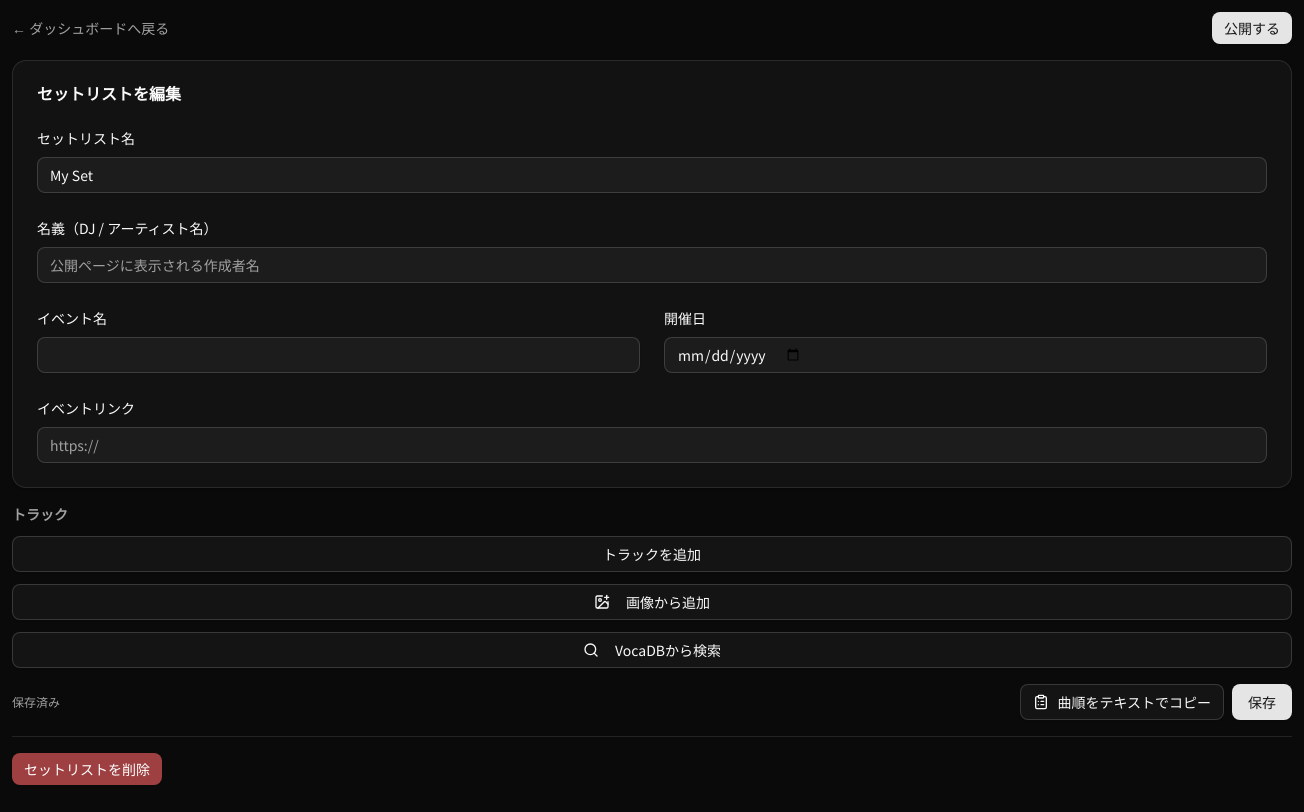
Test: SetlistEditor › disables the save button when the name is empty
expect the button "保存" is enabled: met, box [1232,684,1292,720]
Clear the field labelled "セットリスト名" at (652, 175), box [37,157,1267,193]
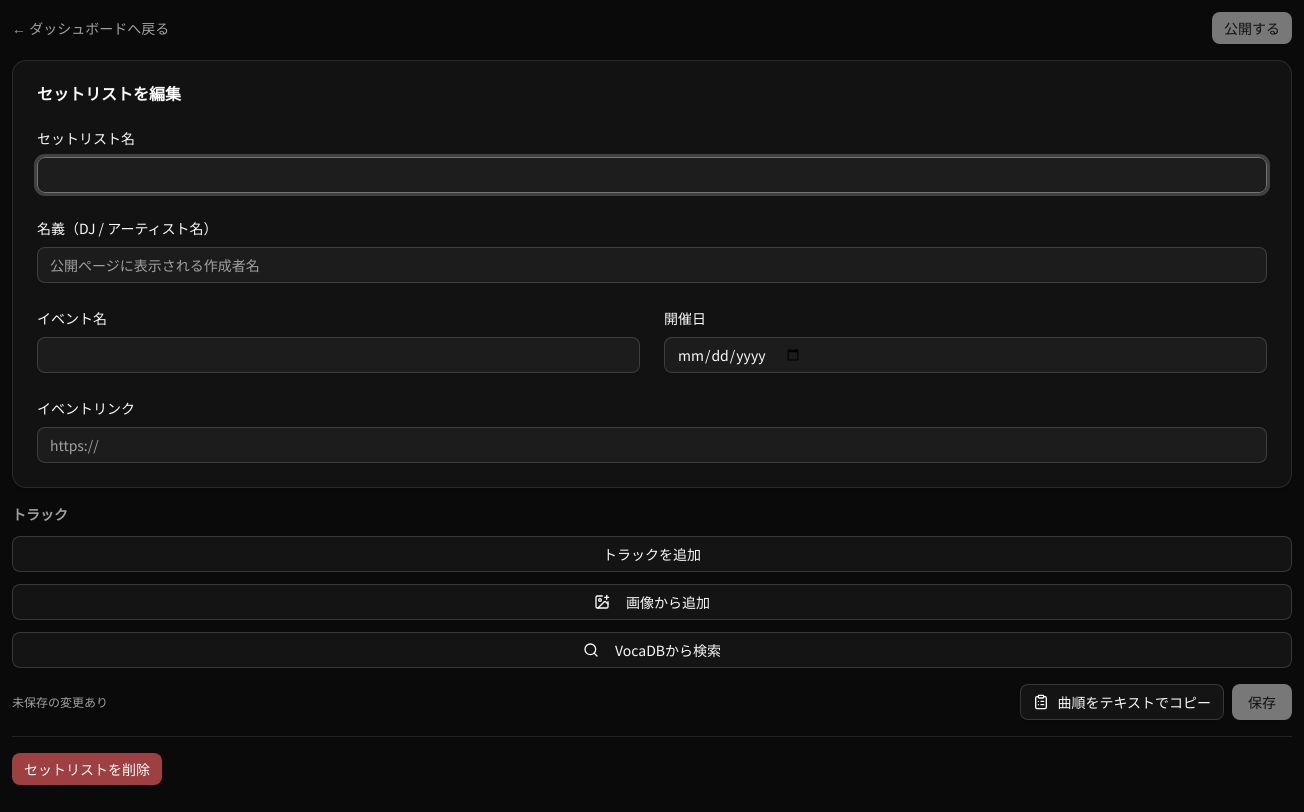
expect the button "保存" is disabled: met, box [1232,684,1292,720]
